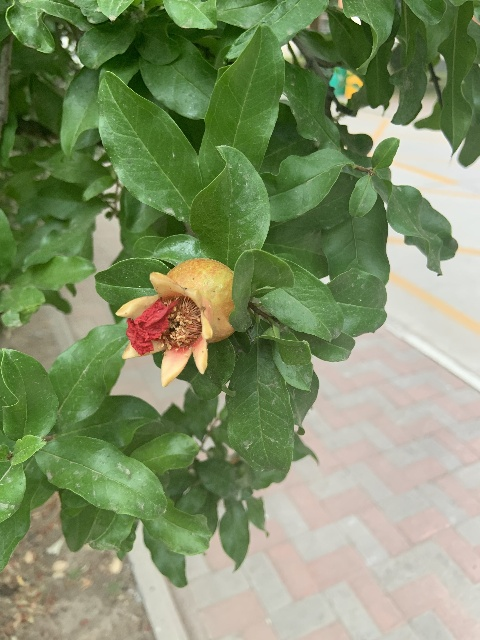early-fruit: (116, 258, 236, 387)
